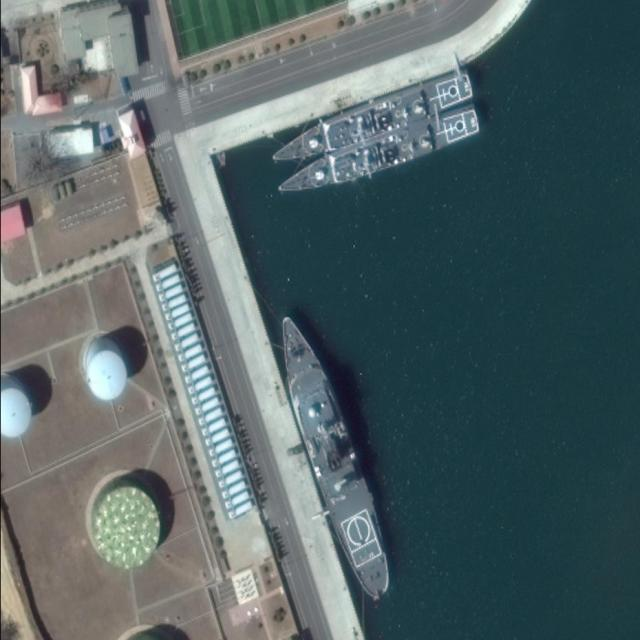Auxiliary Ships: (264, 310, 403, 606), (260, 72, 479, 169), (269, 108, 484, 200)
